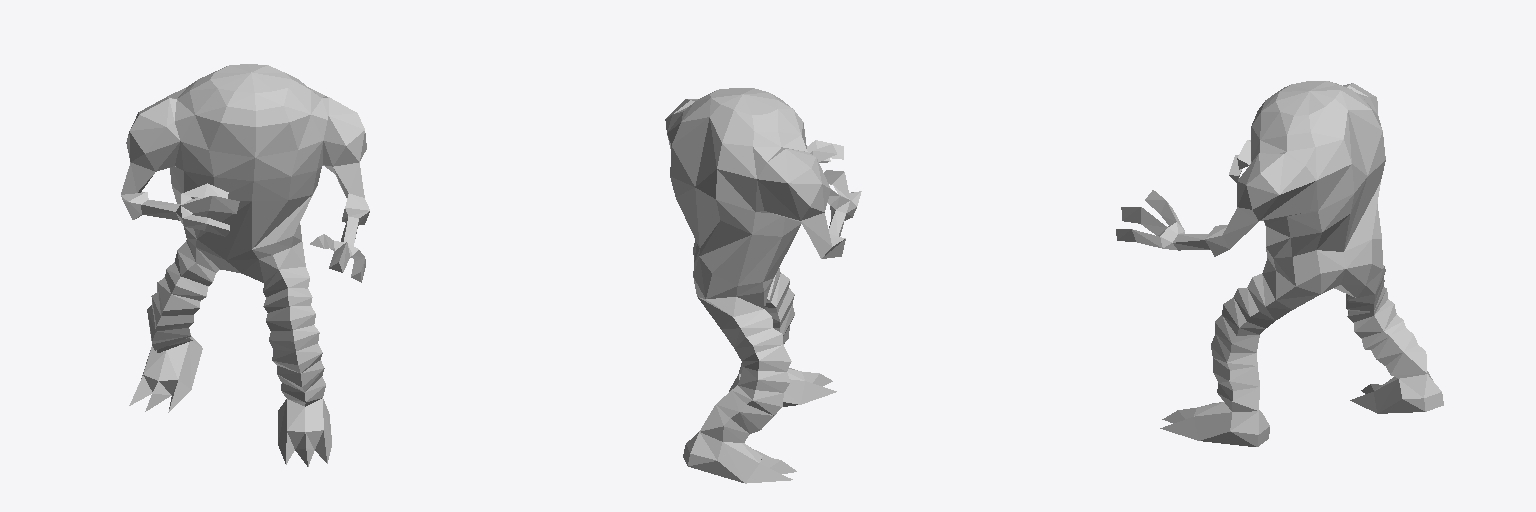
File: Hitmonlee.obj
3 views of the same model, side by side, from view 1: azimuth 30°, elevation 25°; view 2: azimuth 150°, elevation 25°; view 3: azimuth 270°, elevation 25° (orthographic).
Bounding box in the file's own units: 51.84 × 81.83 × 71.56.